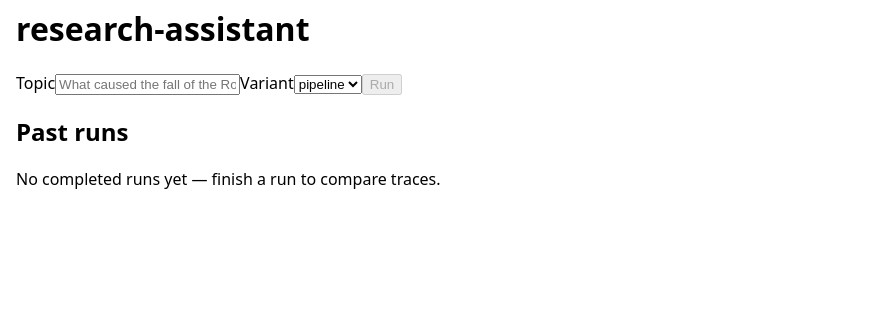
Test: App › refetches past runs exactly once after a run reaches a terminal status
Later steps or results of the test are not shown.
Expected: the dropdown shows "pipeline", [294,75,362,94]
Type "a topic" into the field labelled "Topic". click: [148, 84]
box: [55,74,240,95]
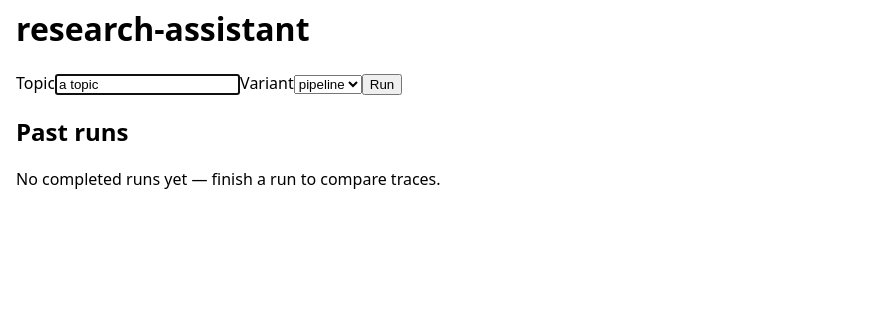
Click the button "Run". click: [382, 84]
box: [362,74,402,95]
Wait 2000 ms
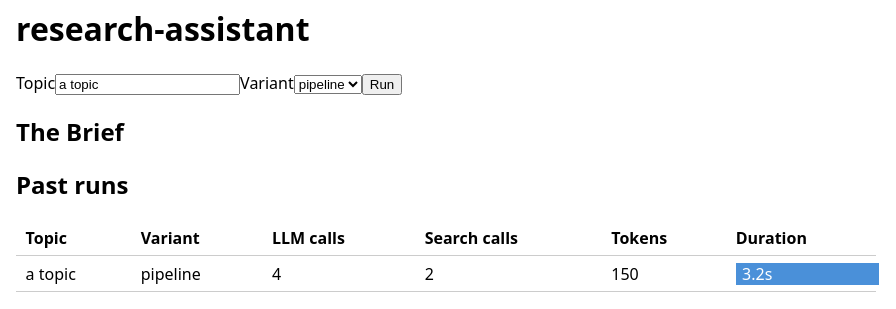
Result: the heading "The Brief" is shown at [16,115,124,148]
